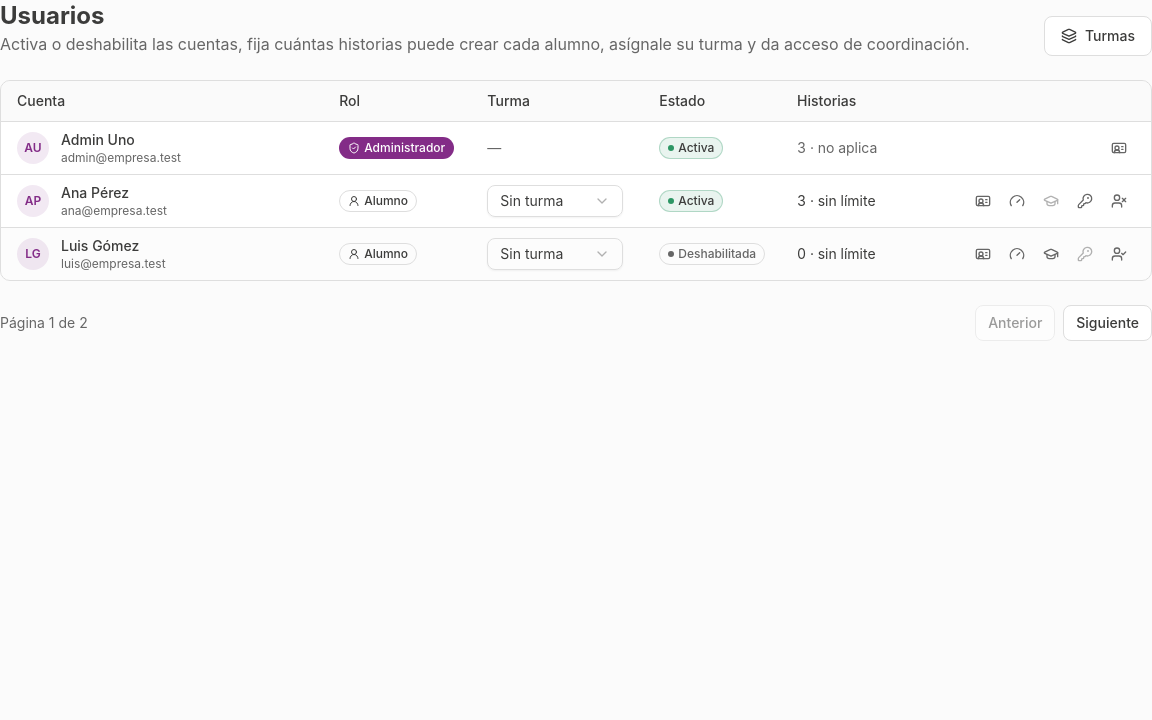
users — Pantalla de usuarios para administradores › Deshabilitar con confirmación: al confirmar la fila pasa a deshabilitada con 'Activar'
The image size is (1152, 720).
What coordinates should you click on to do the following:
click the button named "Deshabilitar la cuenta de Ana Pérez"
I would click on:
 (1119, 200)
Its box is [1103,184,1135,216].
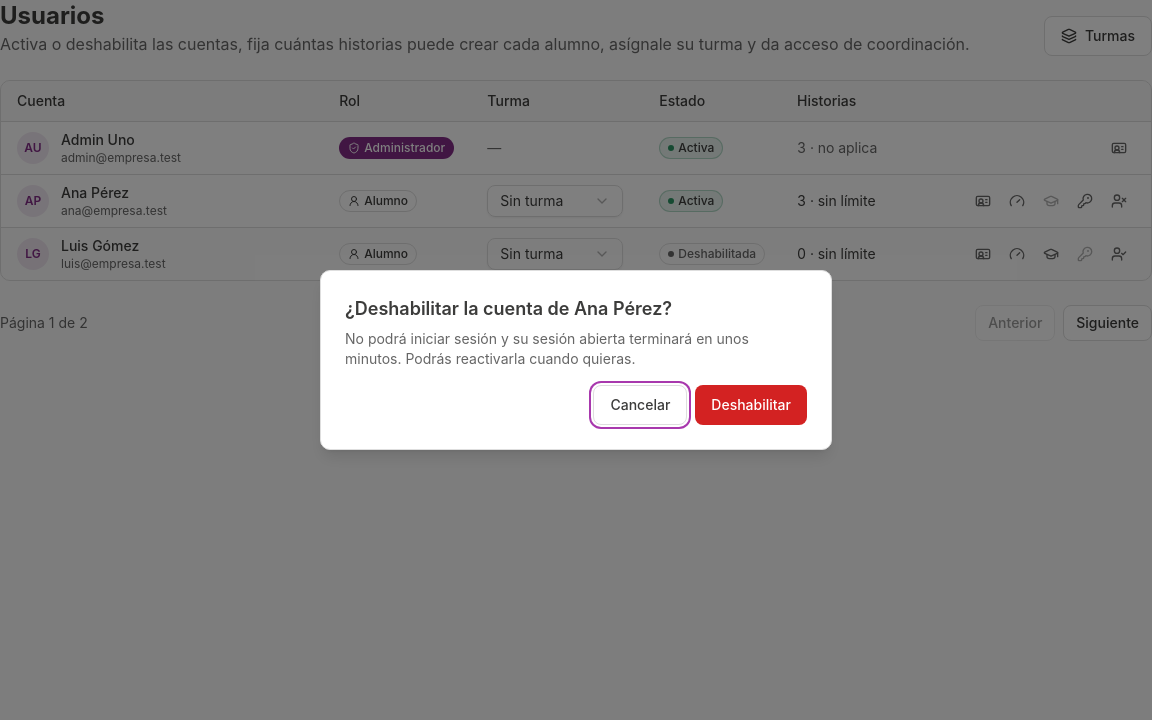
expect the heading "¿Deshabilitar la cuenta de Ana Pérez?" is shown: met, box [345,295,672,323]
What coordinates should you click on to do the following:
click the button "Deshabilitar"
I would click on:
 (751, 405)
Its box is [695,385,807,425].
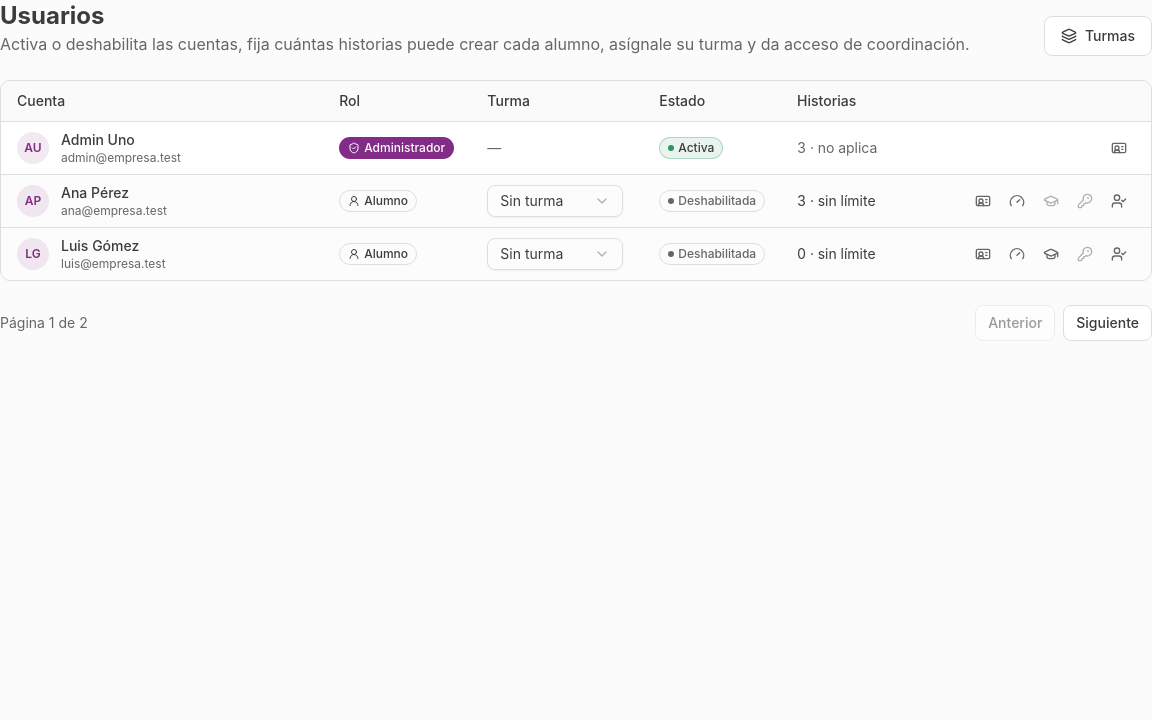
expect the text "Deshabilitada" is shown: met, box [659,190,765,212]
expect the button named "Activar la cuenta de Ana Pérez" is shown: met, box [1103,184,1135,216]
